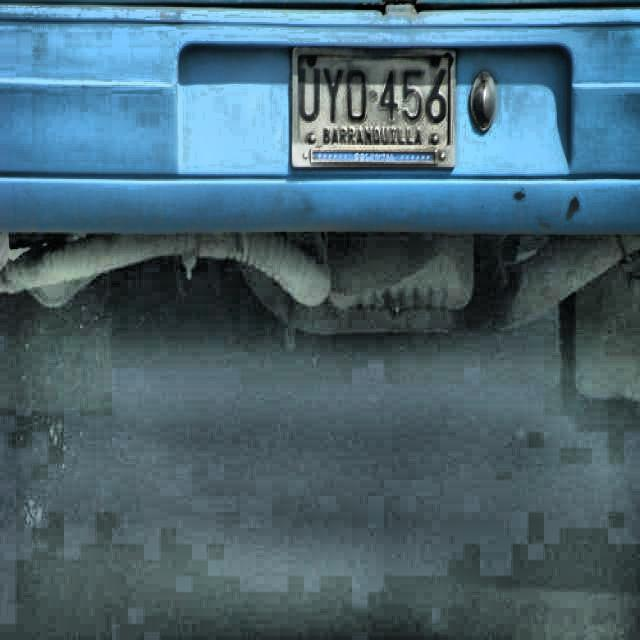plate: (294, 50, 454, 166)
